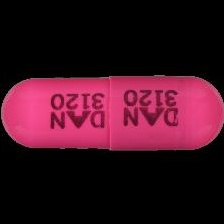0591-2932: (0, 0, 224, 224)
